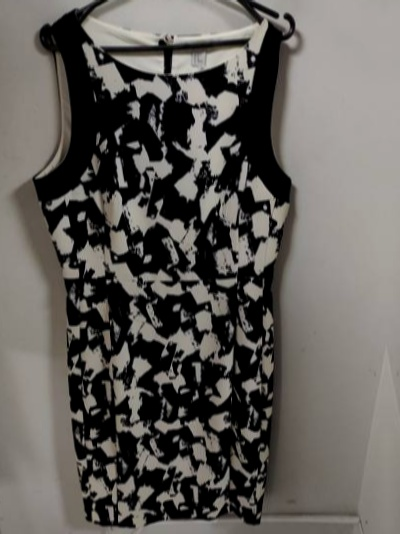Dress: (1, 0, 305, 534)
